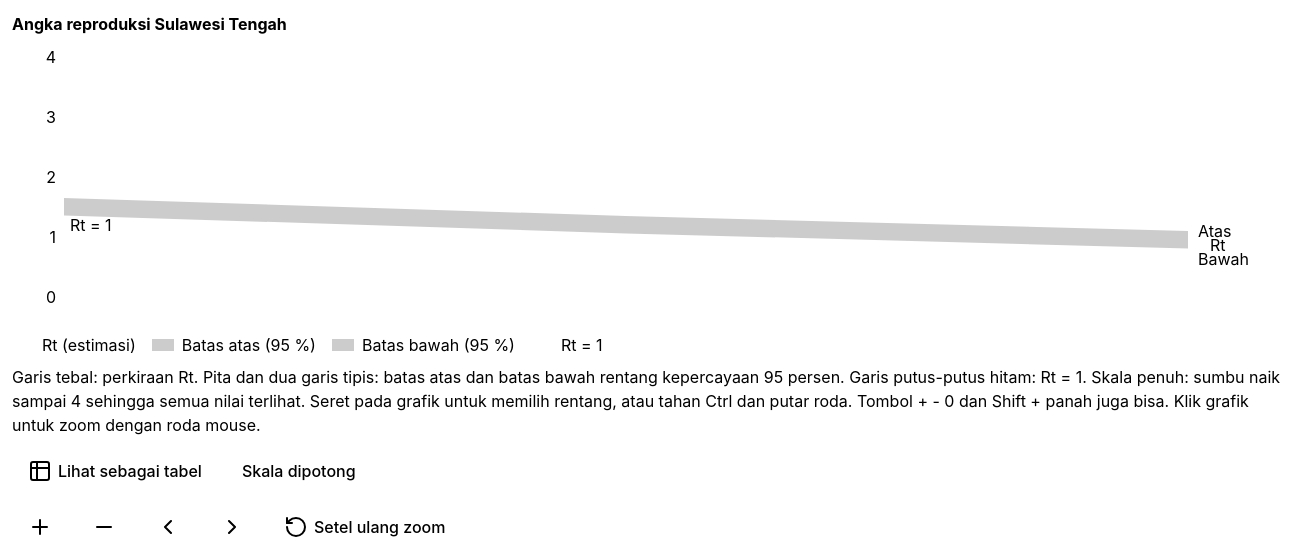
RtChart › keyboard: one Tab stop, the live region reads the value and its range, and Home/End/arrows move
Focus the element showing "0 1 2 3 4 Rt = 1 Rt Atas Bawah" at coordinates (652, 185), box x1=12 y1=45 x2=1292 y2=325
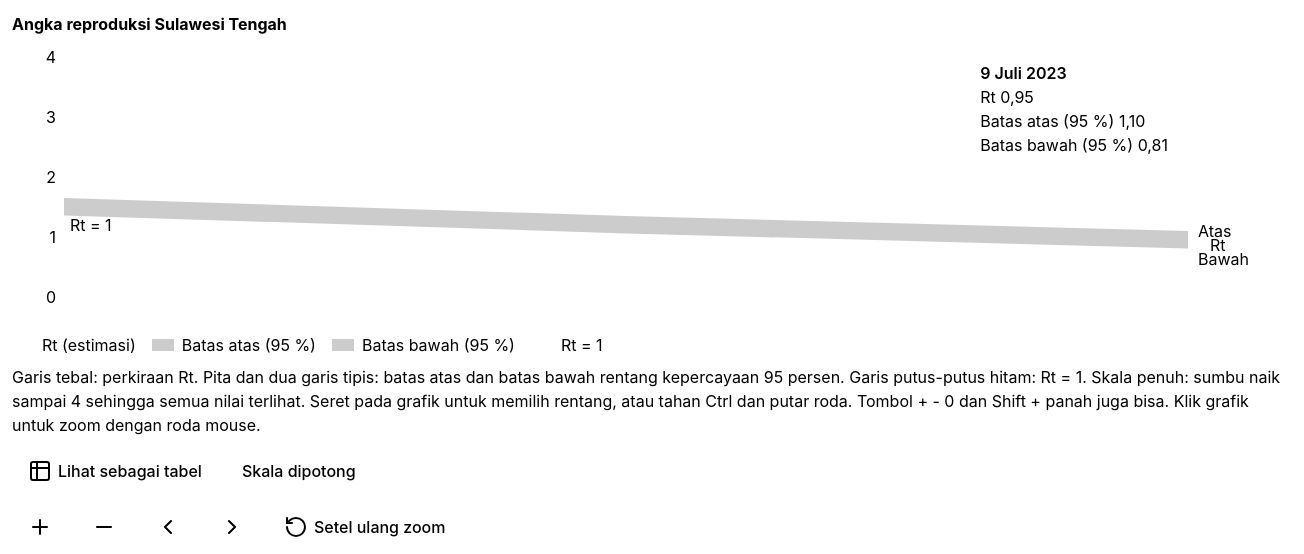
Press ArrowLeft in the element named "Angka reproduksi Sulawesi Tengah. Grafik, gunakan tombol pan", box x1=12 y1=45 x2=1292 y2=325
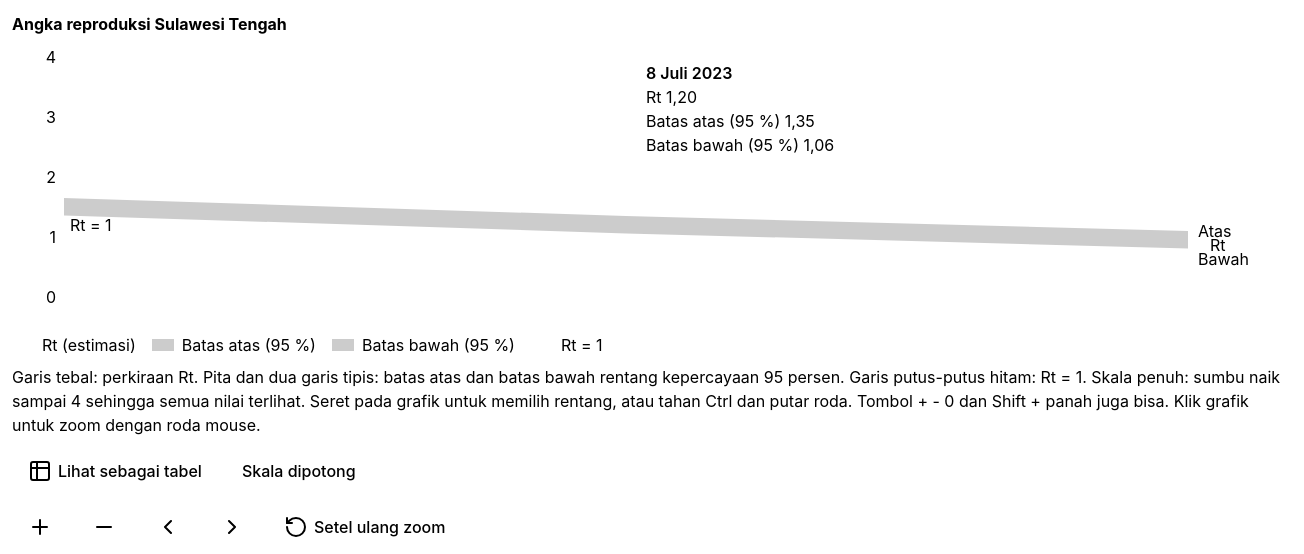
Press Home in the element named "Angka reproduksi Sulawesi Tengah. Grafik, gunakan tombol pan", box x1=12 y1=45 x2=1292 y2=325
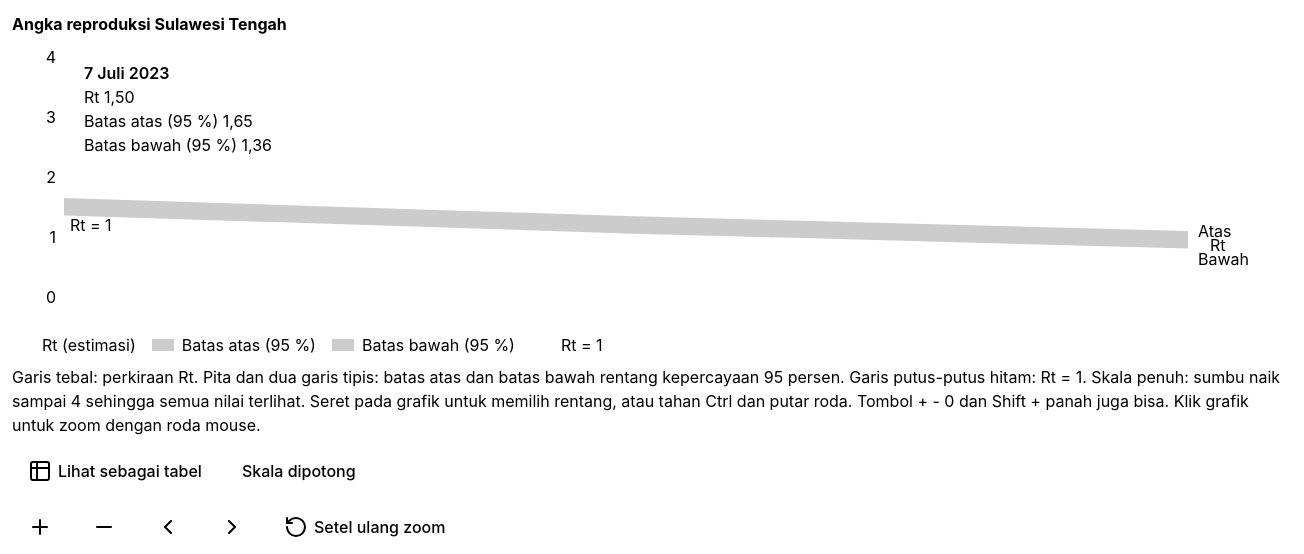
Expected: the element that starts with "7 Juli 2023" shows "Rt 1,50", x1=84 y1=87 x2=134 y2=107
